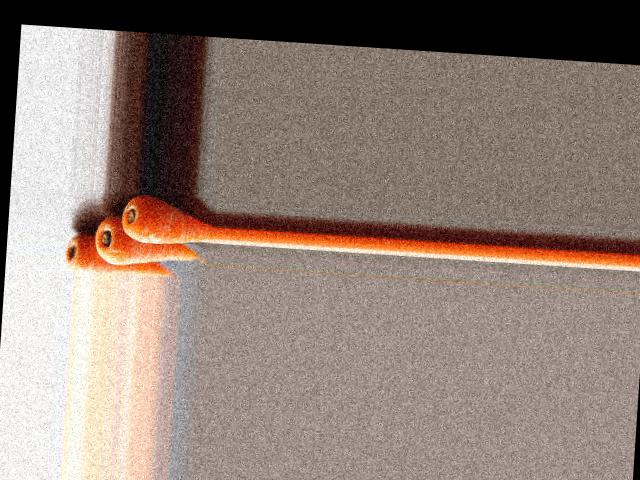carrot: (78, 230, 174, 277)
